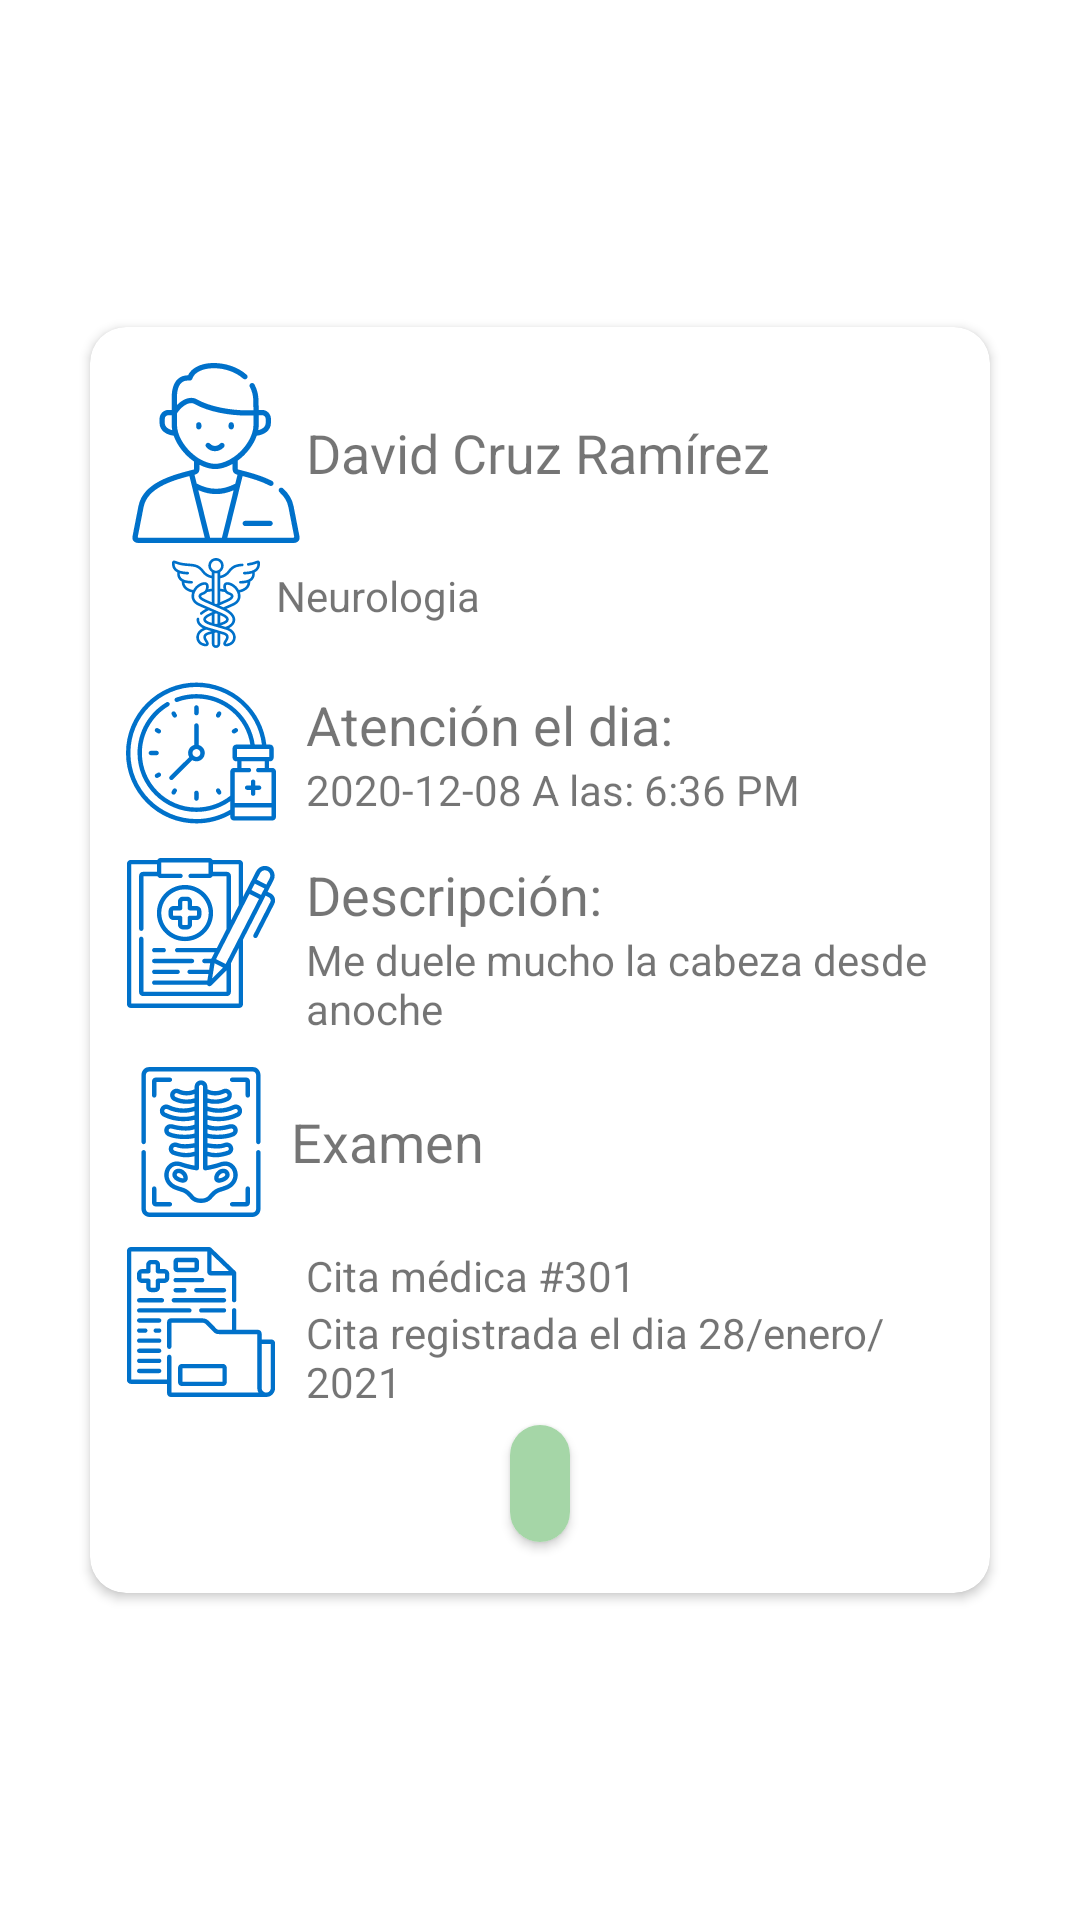

Where to tap for icons on this 1080×1920 app screen, as (x,y):
caduceus symbol: (216,603)
file: (201,1322)
male: (216,453)
medical record: (201,933)
medicine: (201,753)
ray: (201,1142)
